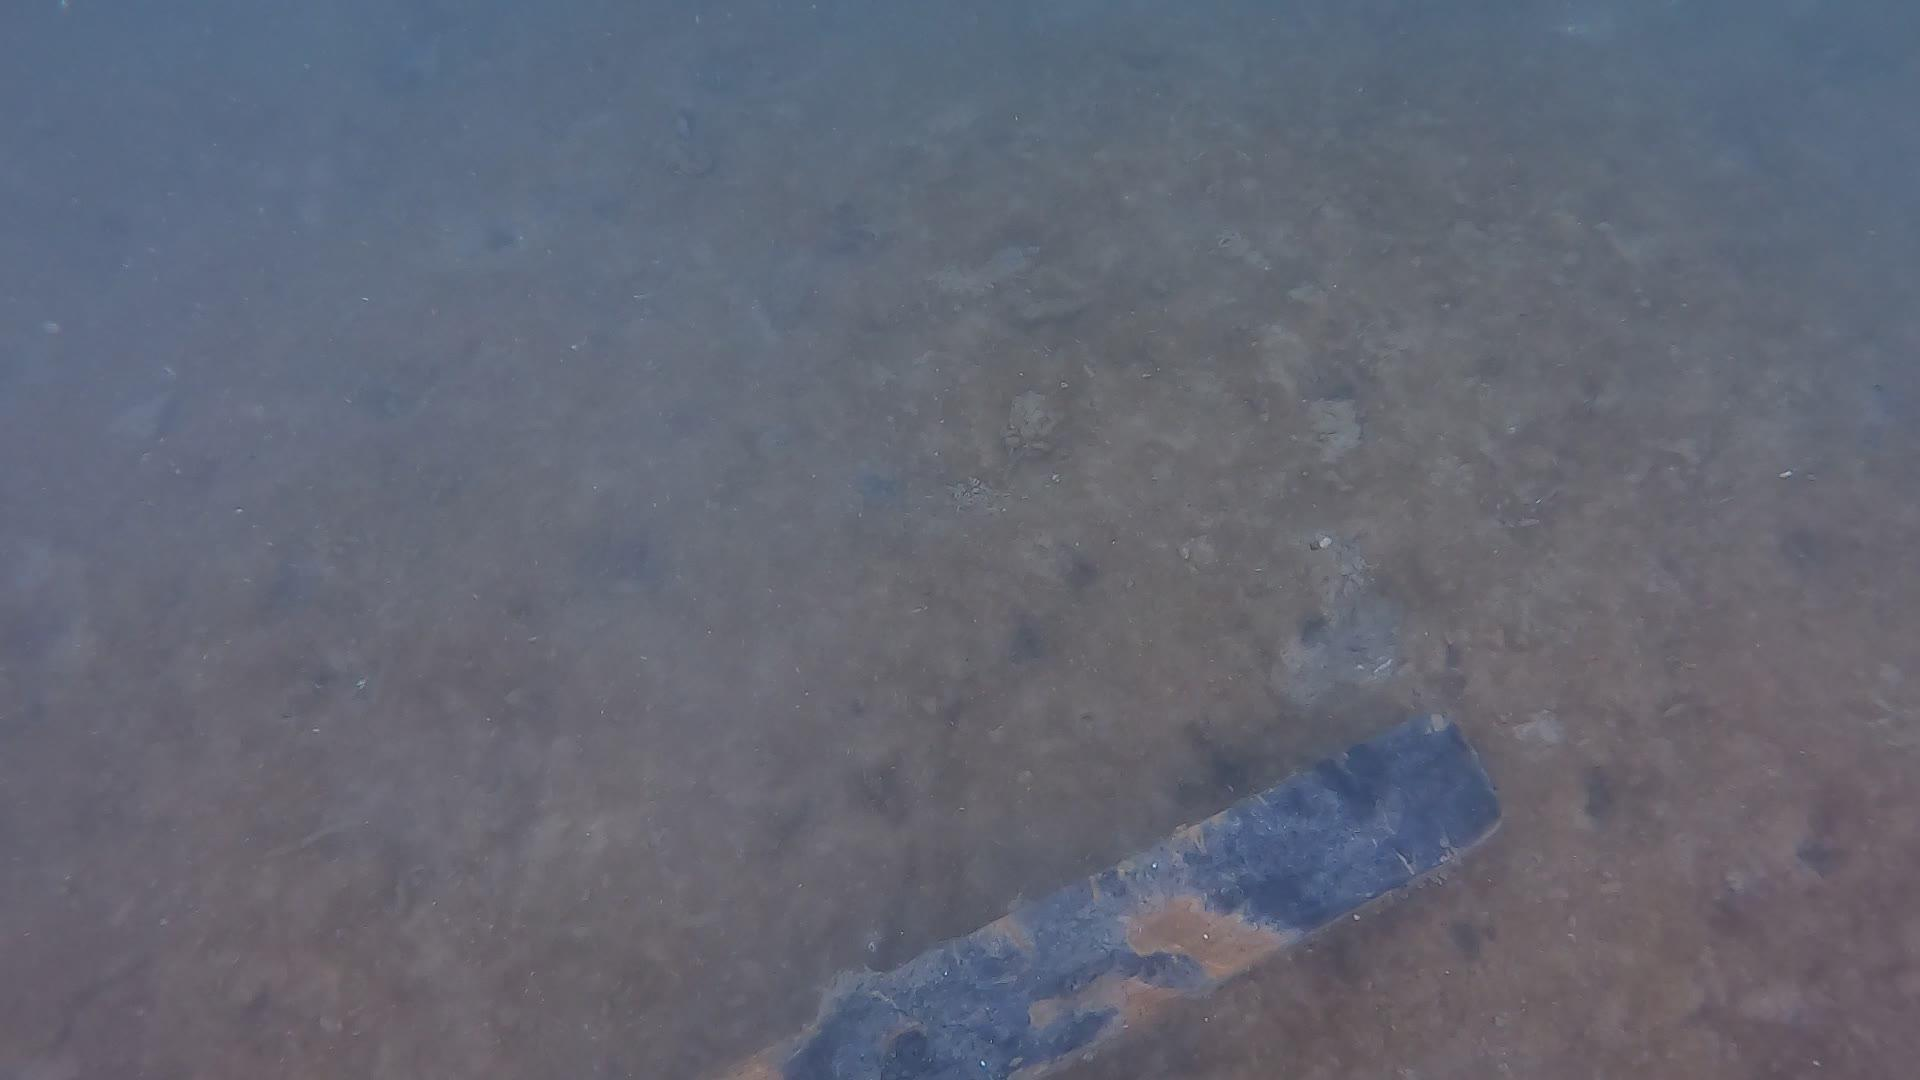wood: (694, 702, 1505, 1080)
